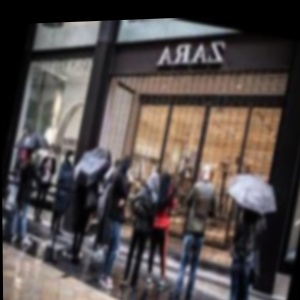zara: (155, 15, 300, 23)
